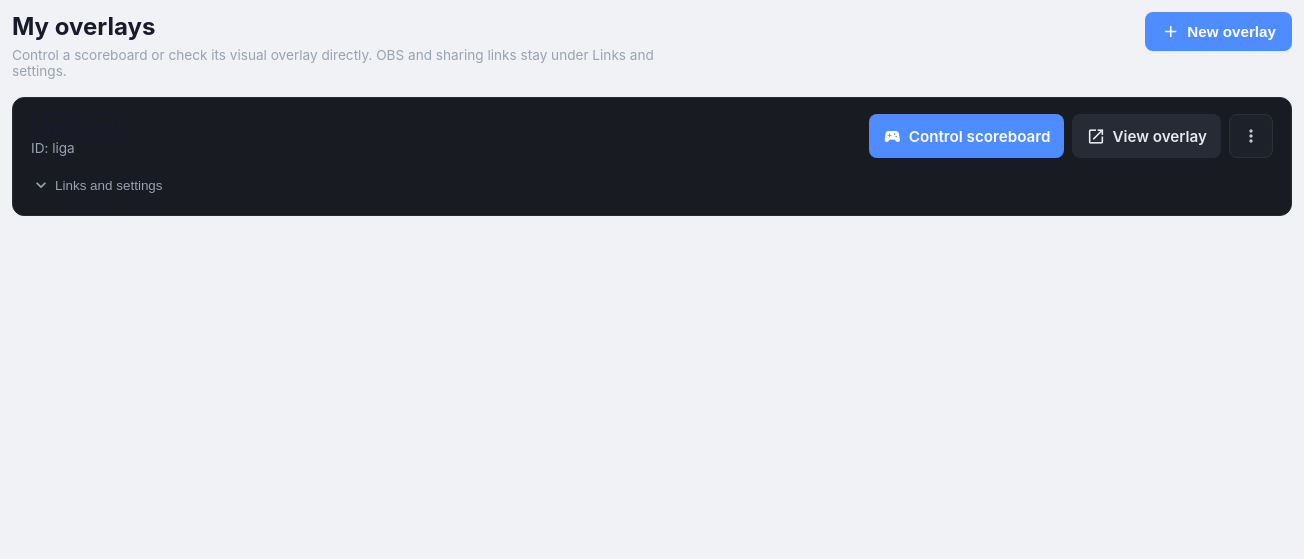
it: OverlaysPage flows › stays in the expanded card while the refresh runs and swaps in the new URL
The width and height of the screenshot is (1304, 559).
Click the button "Links and settings" at {"x": 99, "y": 185}, box [31,166,167,204]
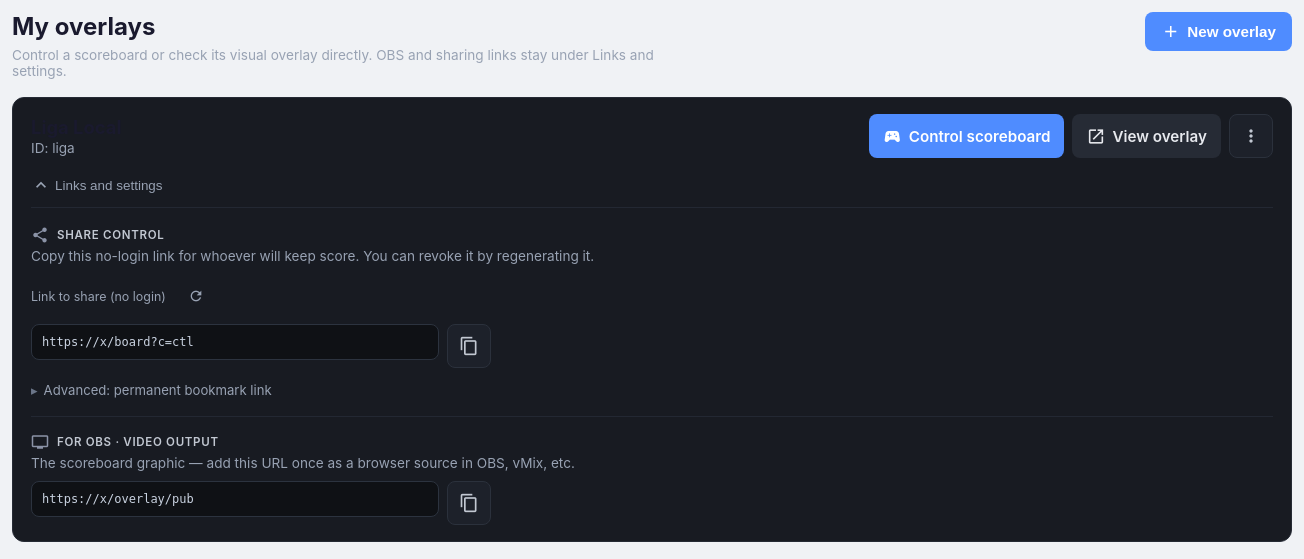
Click the button named "regenerate" at {"x": 196, "y": 296}, box [174,274,218,318]
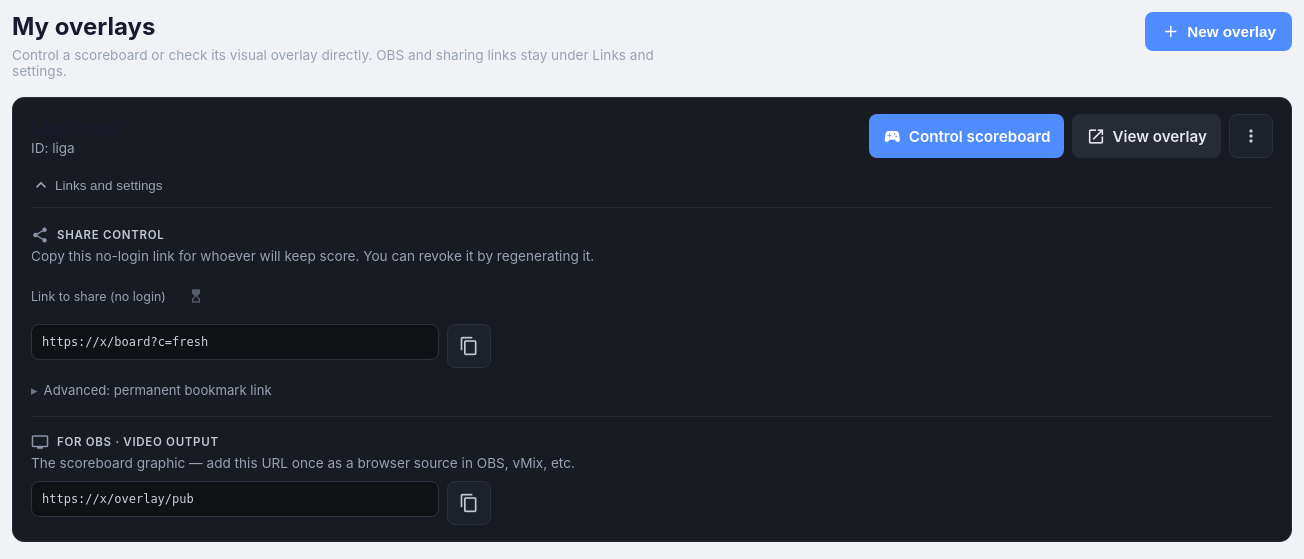
Expected: the button "Links and settings" is expanded, [31,166,167,204]
Expected: the field "https://x/board?c=fresh" is shown, [31,324,439,360]
Expected: the field "https://x/board?c=ctl" is gone
